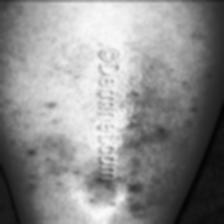Unclassified: (124, 168, 166, 210), (128, 116, 176, 134)
